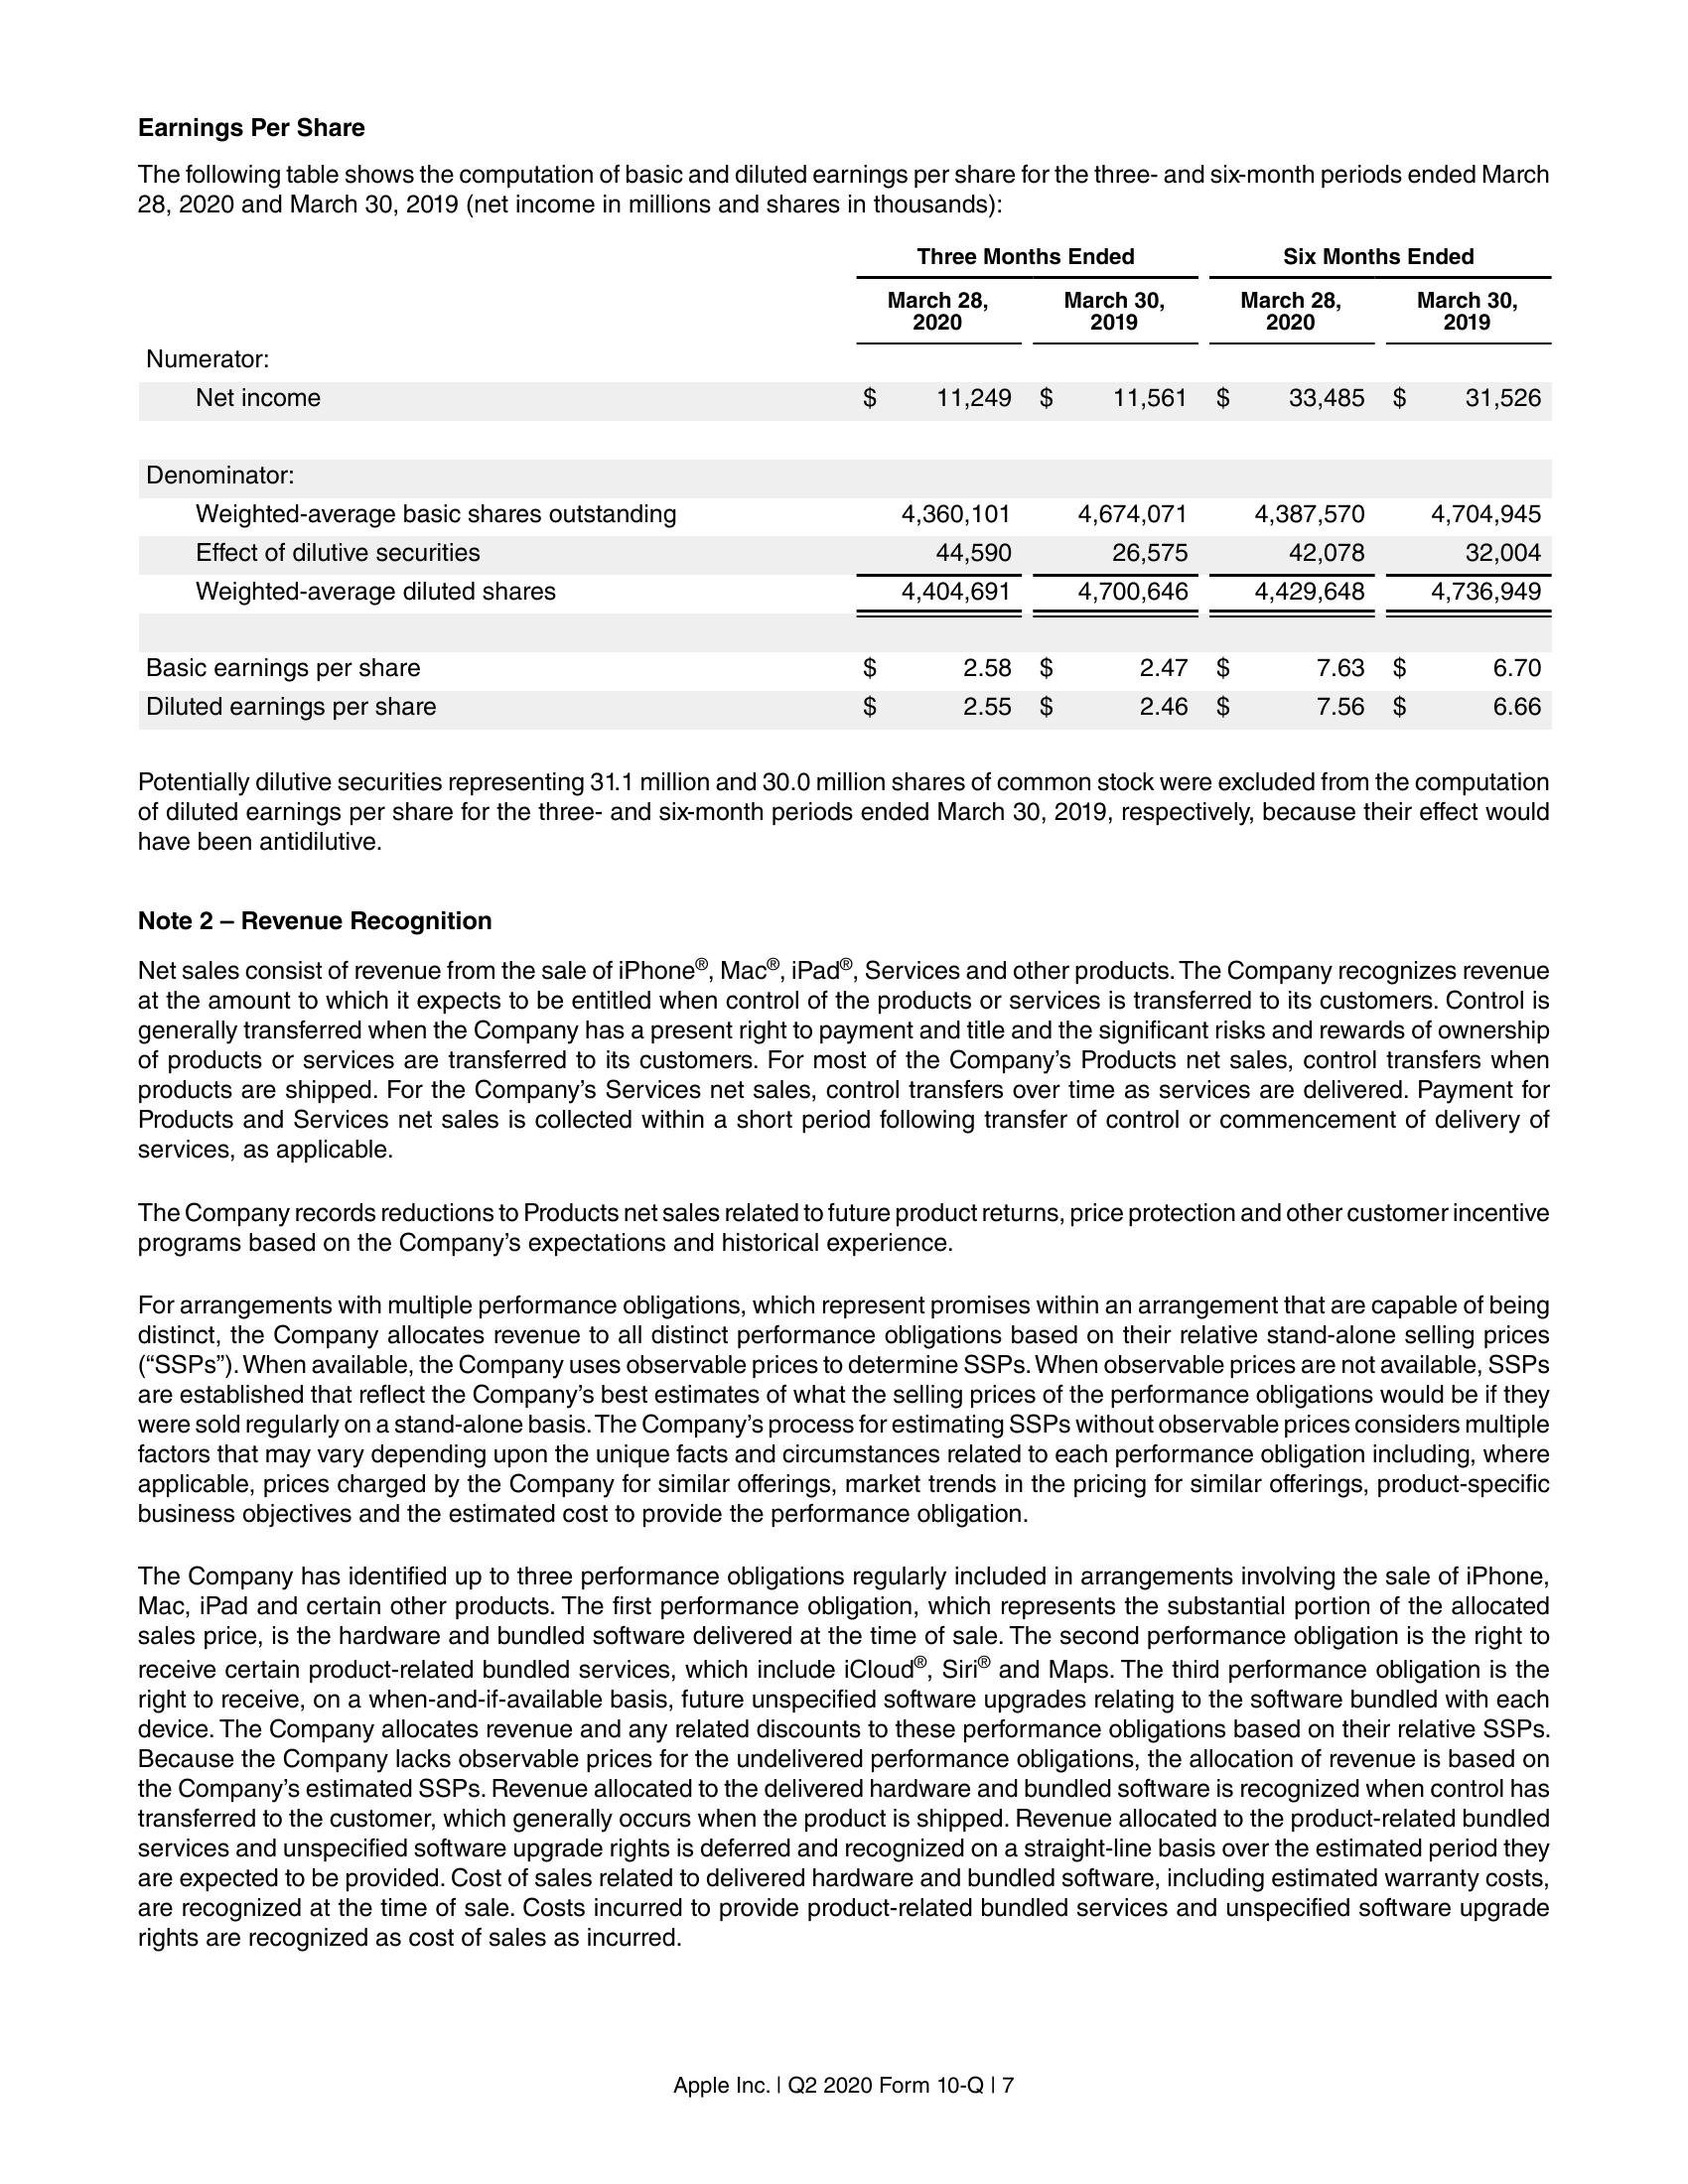table: (138, 238, 1553, 723)
